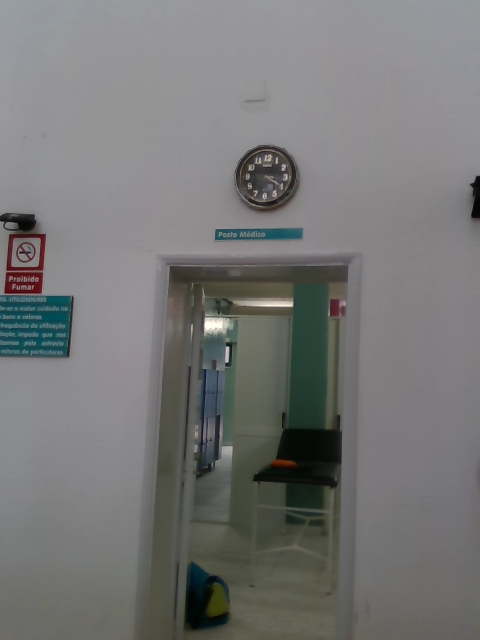open: (136, 252, 359, 639)
